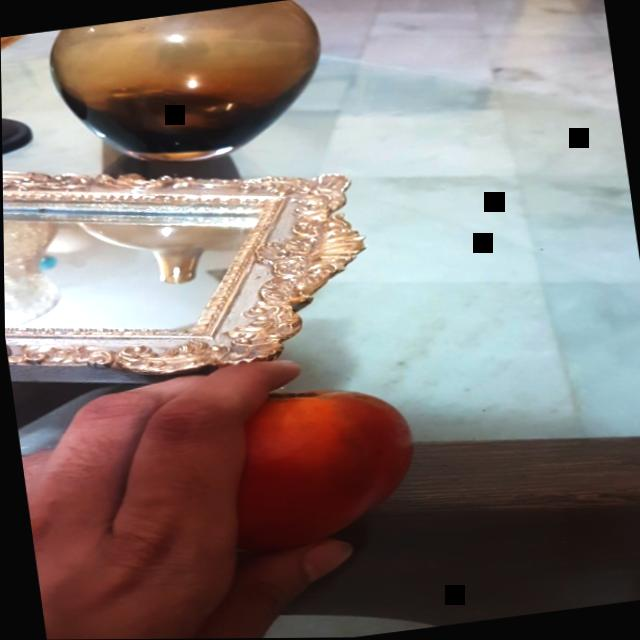tomato: (143, 374, 438, 578)
